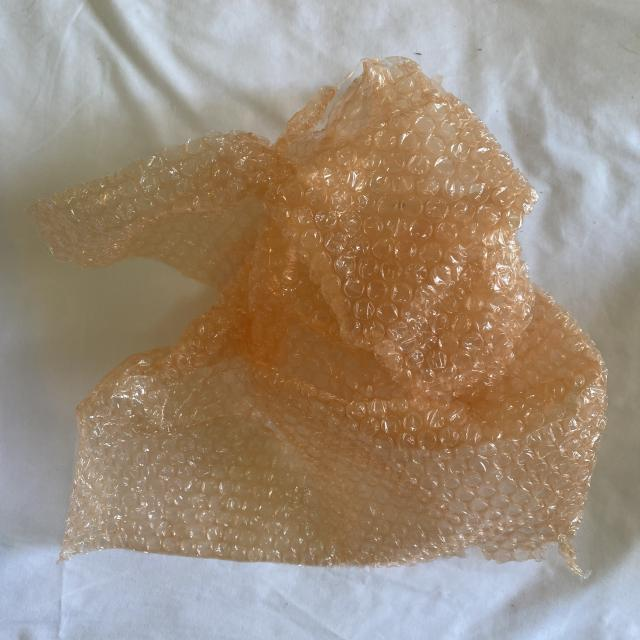Single-layer Plastic: (31, 58, 605, 565)
